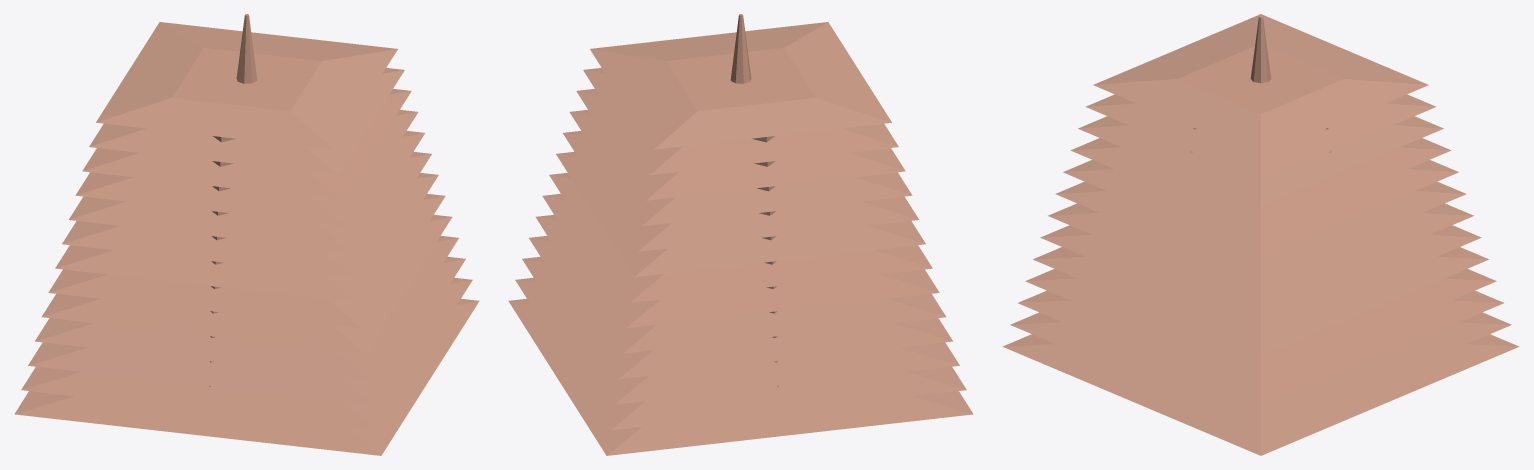
File: place-liuhe-pagoda-hangzhou.glb
The picture shows the model from 3 angles, left to right: view 1: azimuth 30°, elevation 25°; view 2: azimuth 150°, elevation 25°; view 3: azimuth 270°, elevation 25°; orthographic projection. The views are drawn at different scales.
Parts seen in each view (by area): view 1: place-liuhe-pagoda-hangzhou; view 2: place-liuhe-pagoda-hangzhou; view 3: place-liuhe-pagoda-hangzhou.
Part boxes in pixels (x1,y1,x2,y2): place-liuhe-pagoda-hangzhou: (14, 14, 479, 455); place-liuhe-pagoda-hangzhou: (508, 14, 973, 455); place-liuhe-pagoda-hangzhou: (1002, 14, 1519, 455).
Size of the model in its own units: 81.25 by 59.89 by 81.25.
